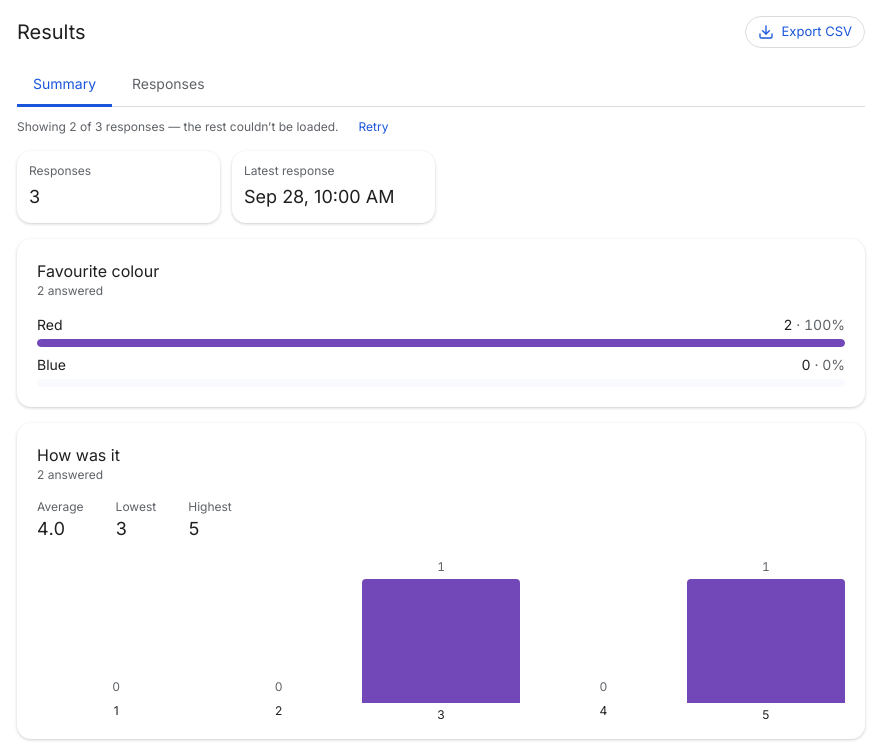
ResultsTab — summary › when a later page fails, says so and Retry loads the rest
Expected: the text "Showing 2 of 3 responses — the rest couldn’t be loaded. Retry" is shown, [17,119,400,135]
Expected: the list item "Blue" shows "0 · 0%", [37,355,845,387]
Click the button "Retry": (373, 127) [346,119,400,135]
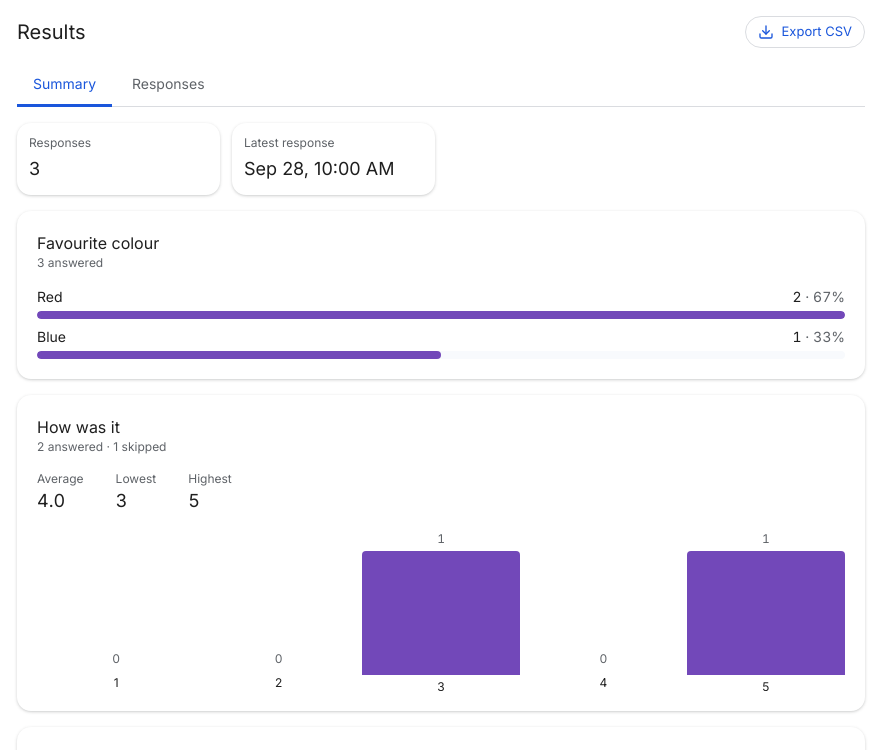
Expected: the text "Showing 2 of 3 responses" is gone
Expected: the list item "Blue" shows "1 · 33%", [37,327,845,359]
